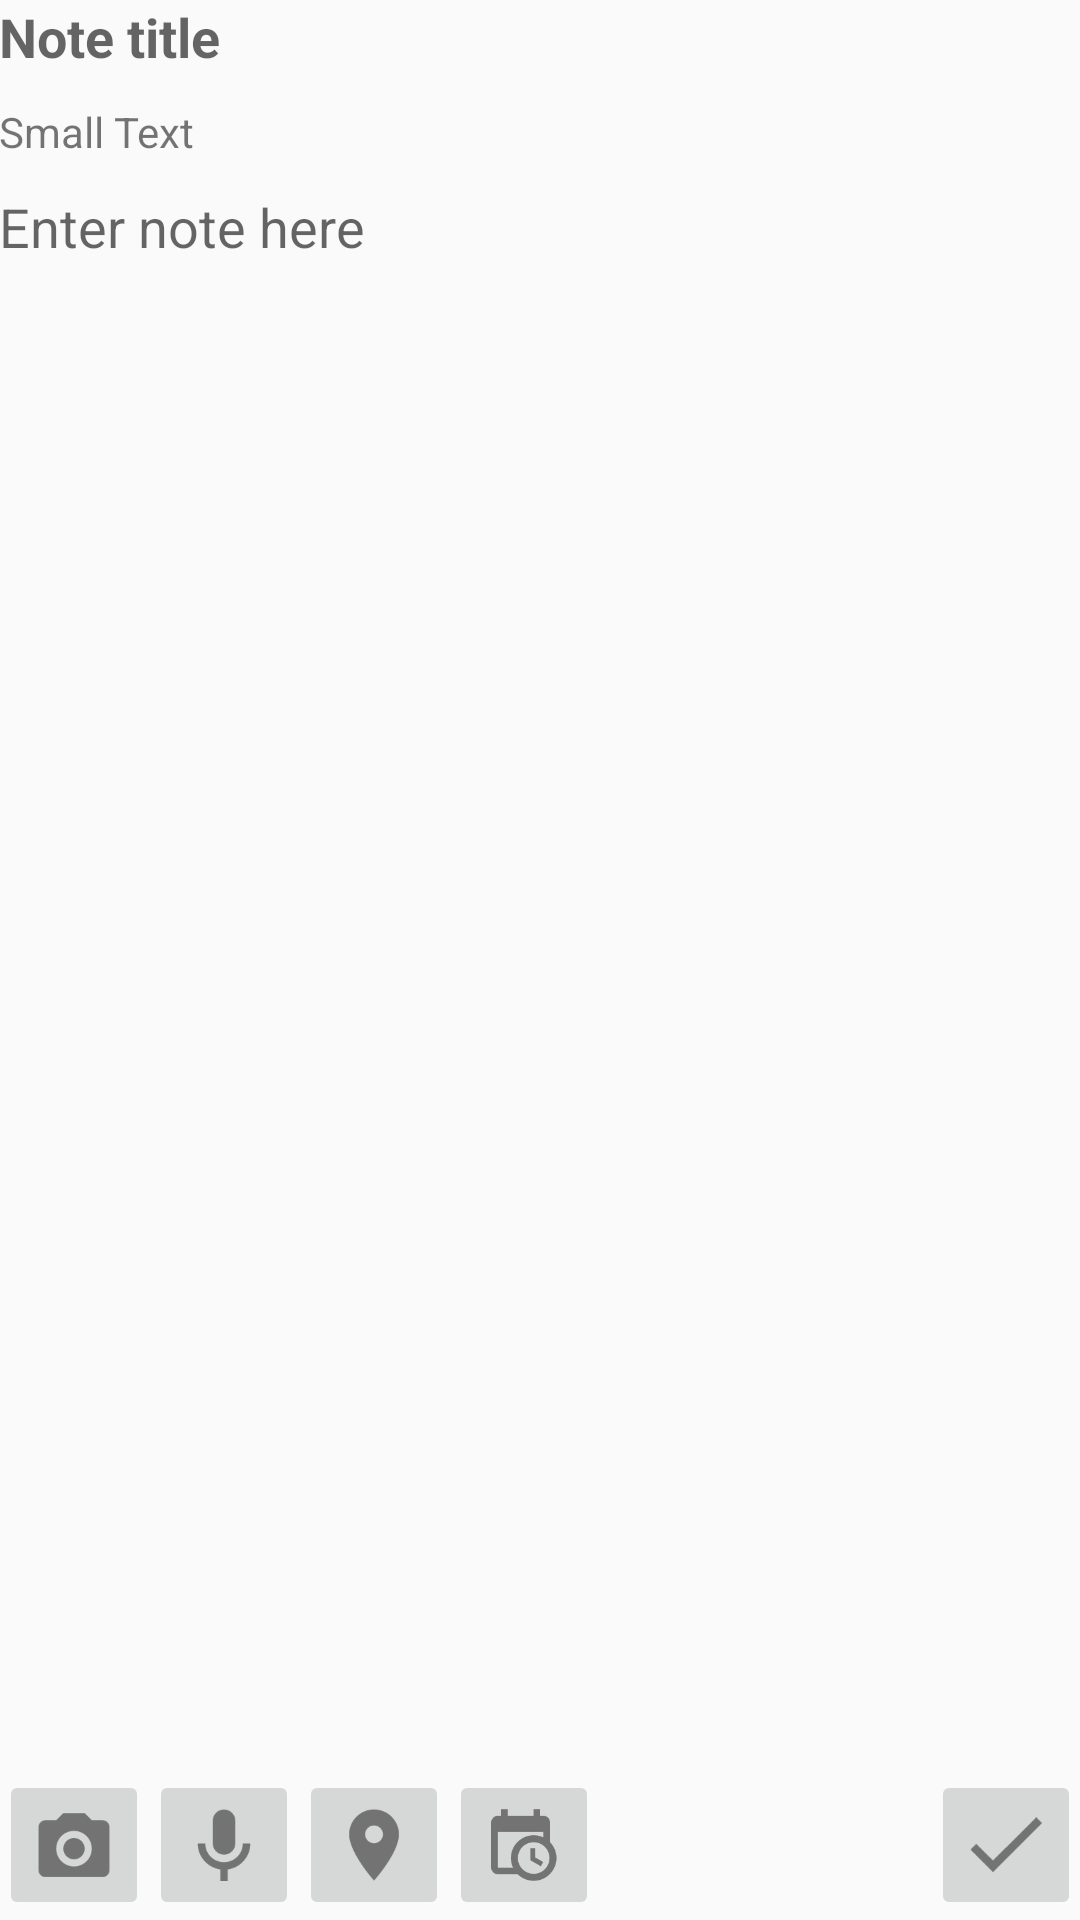

Point at icon controls on the screen. Image size 1080 x 1920, points as (x,y).
calendar clock: (524,1845)
camera: (74,1845)
check: (1006,1845)
map marker: (374,1845)
microphone: (224,1845)
